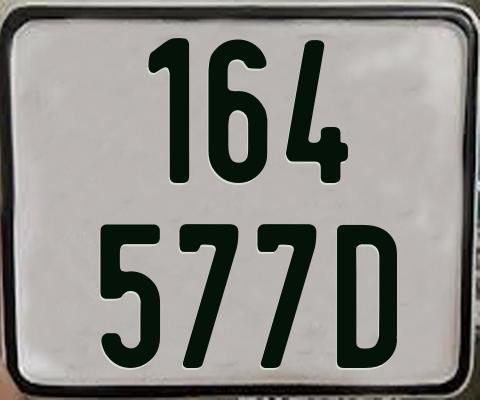1: (147, 35, 194, 180)
4: (285, 37, 352, 181)
5: (97, 222, 161, 369)
6: (206, 39, 268, 185)
7: (257, 224, 323, 370), (176, 221, 240, 365)
D: (337, 225, 400, 369)
